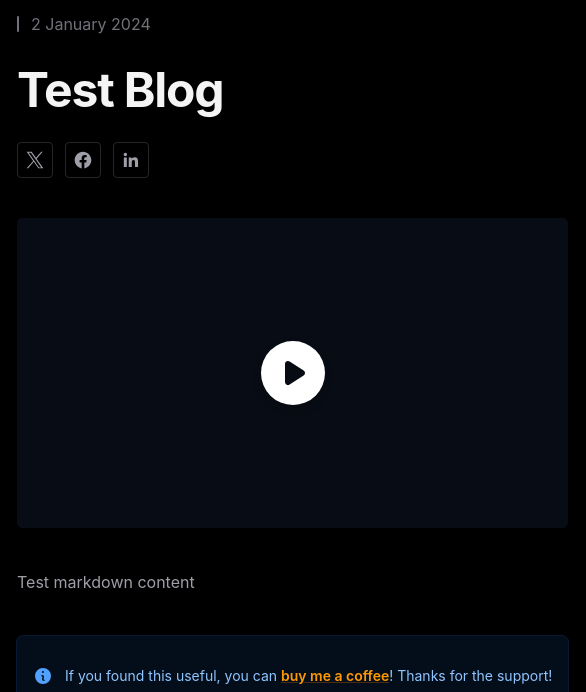
Test: BlogLayout › renders video placeholder then player after clicking play
Click the button named "Play Video": (293, 373) [17,218,568,528]
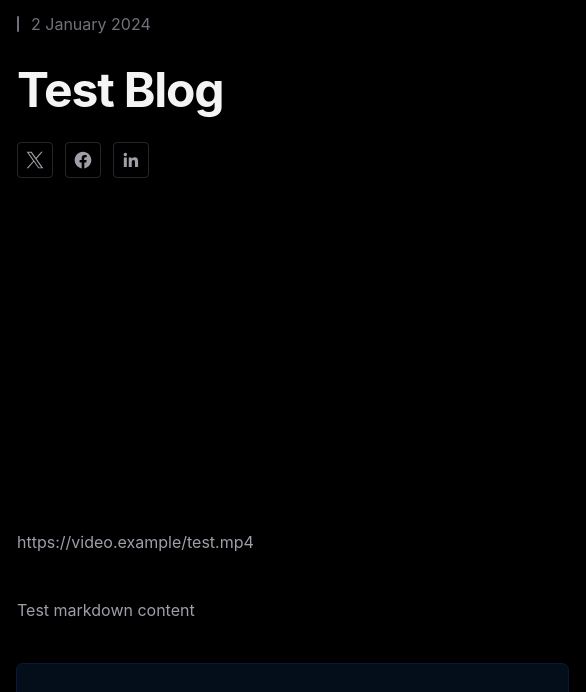
Check: the text with test id "react-player" reads "https://video.example/test.mp4", box [17,532,254,552]
